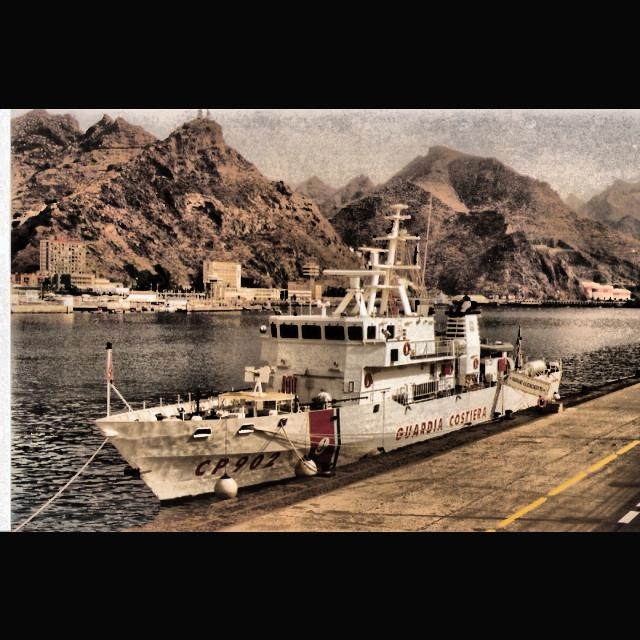patrol_vessel: (94, 197, 568, 513)
